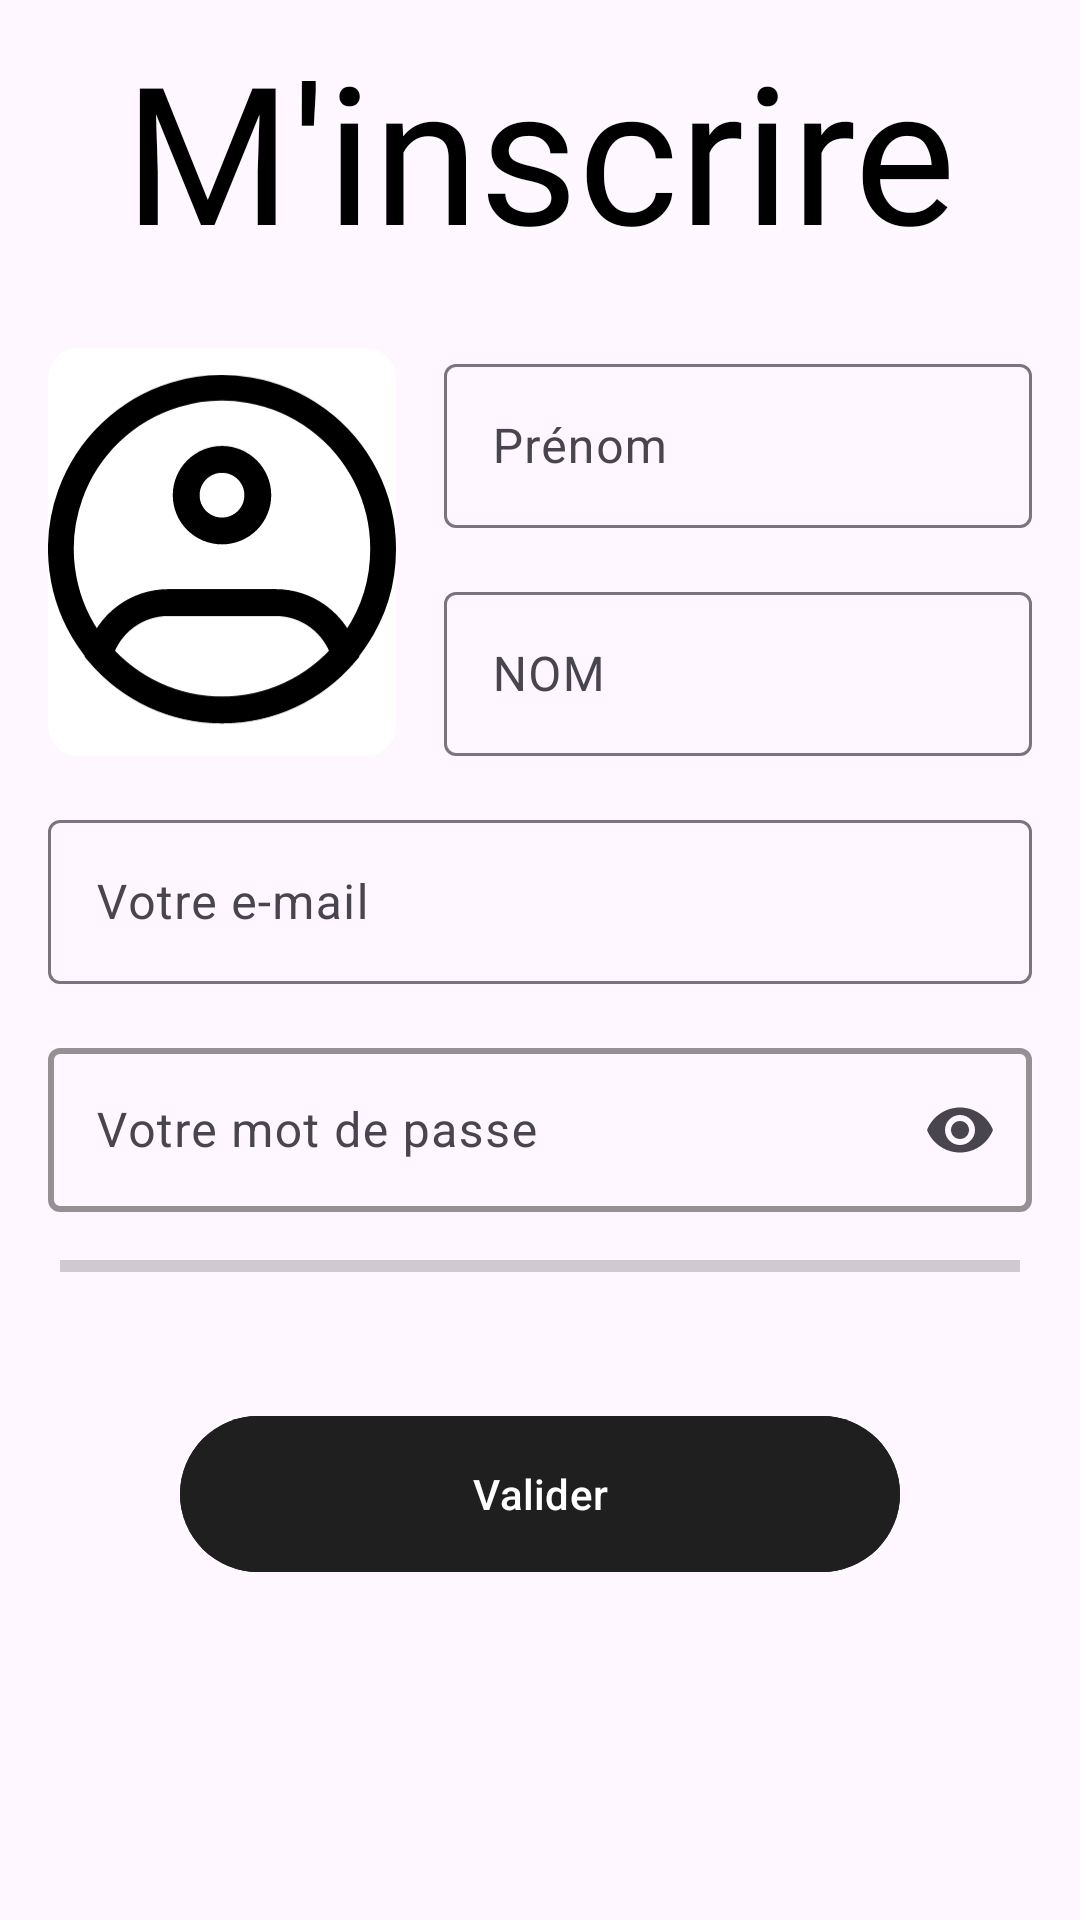

Named icons in this screenshot (1080 × 1920) and their bounding boxes, (x1=x1, y1=y1, x2=x2, y2=y2):
profile: (x1=48, y1=375, x2=396, y2=724)
